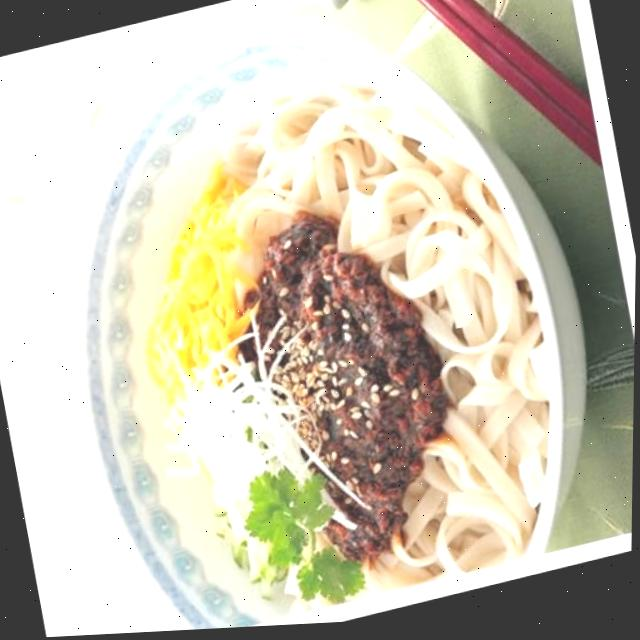面条主食: (14, 0, 635, 639)
